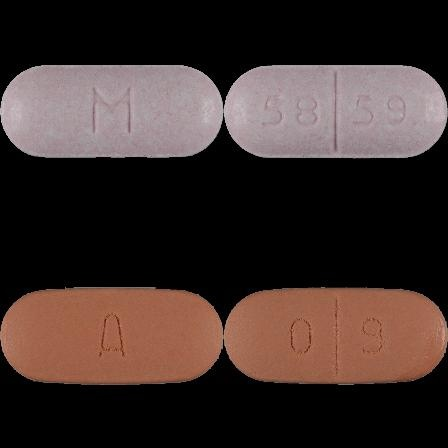64720-321: (0, 0, 224, 224)
